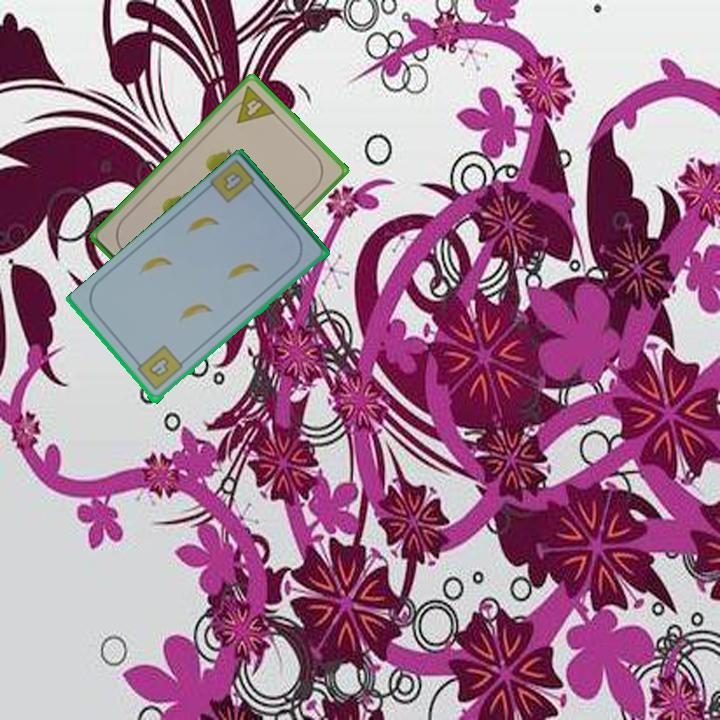4b: (131, 342, 185, 394), (207, 157, 263, 207)
4p: (224, 82, 278, 126)
